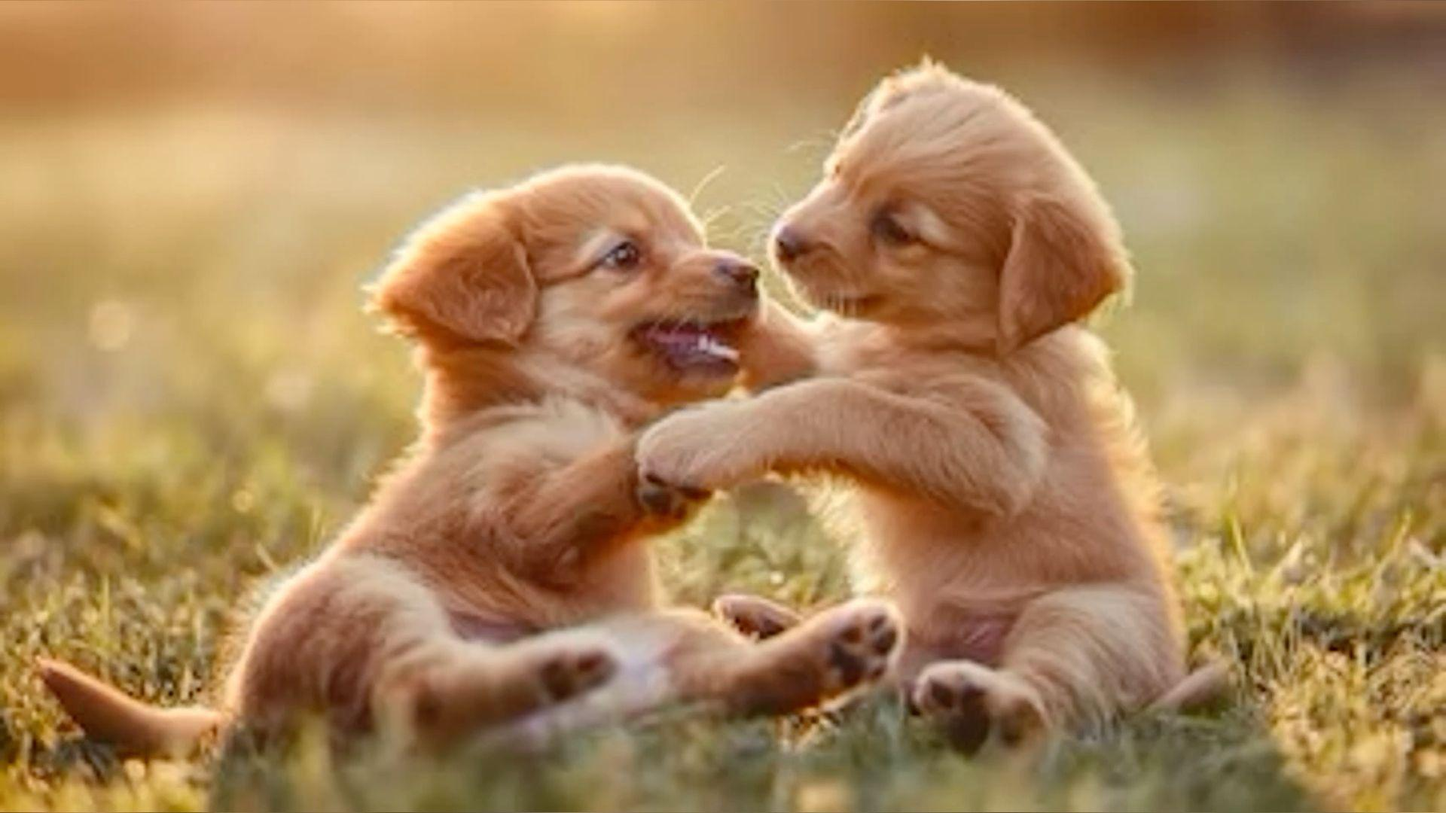puppy-dog: (31, 159, 909, 769), (627, 56, 1240, 774)
